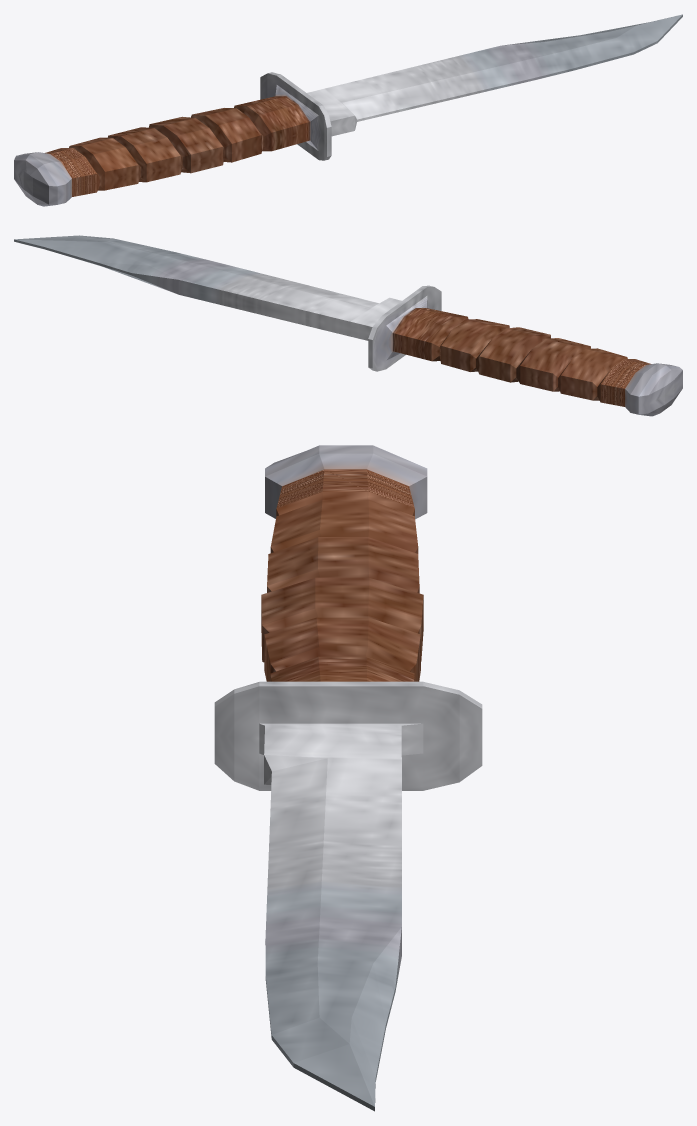
Rendered from knife.fbx.
The picture shows the model from 3 angles, top to bottom: view 1: azimuth 30°, elevation 25°; view 2: azimuth 150°, elevation 25°; view 3: azimuth 270°, elevation 25°; orthographic projection. The views are drawn at different scales.
Parts seen in each view (by area): view 1: Plane; view 2: Plane; view 3: Plane.
Part boxes in pixels (<box>): Plane: <box>14,14,682,206</box>; Plane: <box>14,235,682,416</box>; Plane: <box>214,445,482,1111</box>.
Size of the model in its own units: 500 by 38.61 by 89.51.
